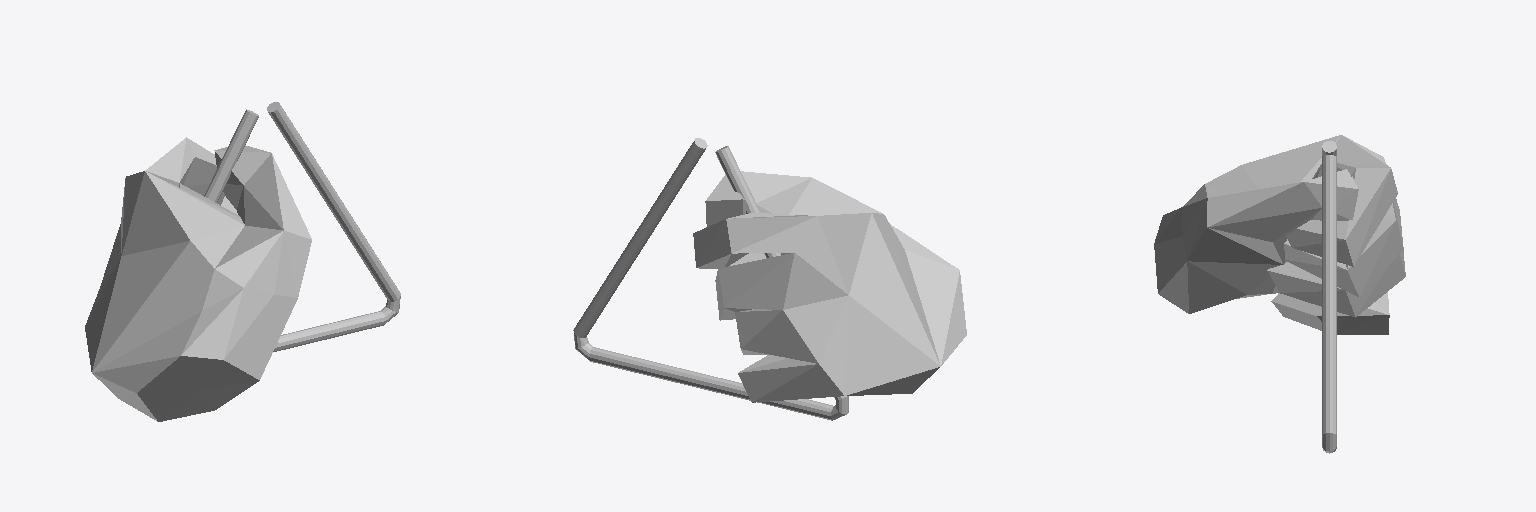
The model's file is MutedTriangle.obj.
3 views of the same model, side by side, from view 1: azimuth 30°, elevation 25°; view 2: azimuth 150°, elevation 25°; view 3: azimuth 270°, elevation 25° (orthographic).
Parts seen in each view (by area): view 1: Converted object 0(m1), Converted object 0(m0); view 2: Converted object 0(m1), Converted object 0(m0); view 3: Converted object 0(m1), Converted object 0(m0).
Part boxes in pixels (x1,y1,x2,y2): Converted object 0(m1): (85, 137, 311, 421); Converted object 0(m0): (204, 102, 400, 351); Converted object 0(m1): (693, 171, 966, 402); Converted object 0(m0): (573, 138, 848, 420); Converted object 0(m1): (1154, 135, 1405, 334); Converted object 0(m0): (1322, 141, 1336, 453).
Size of the model in its own units: 5.59 by 3.93 by 3.62.